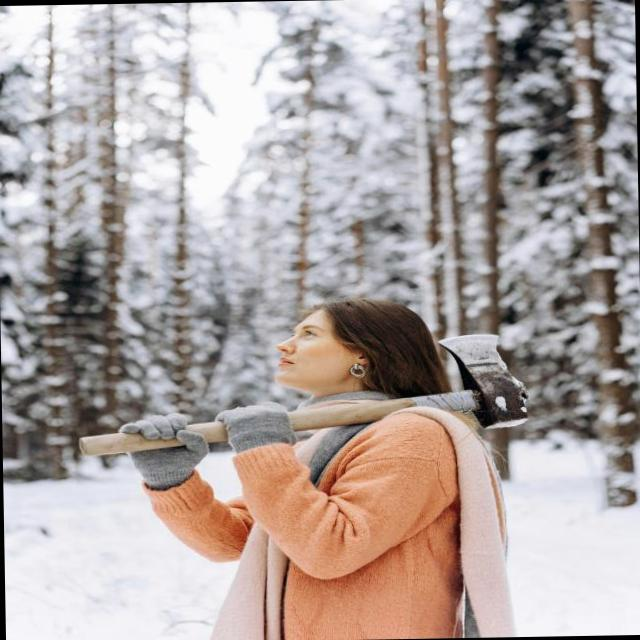Axe: (79, 334, 529, 455)
